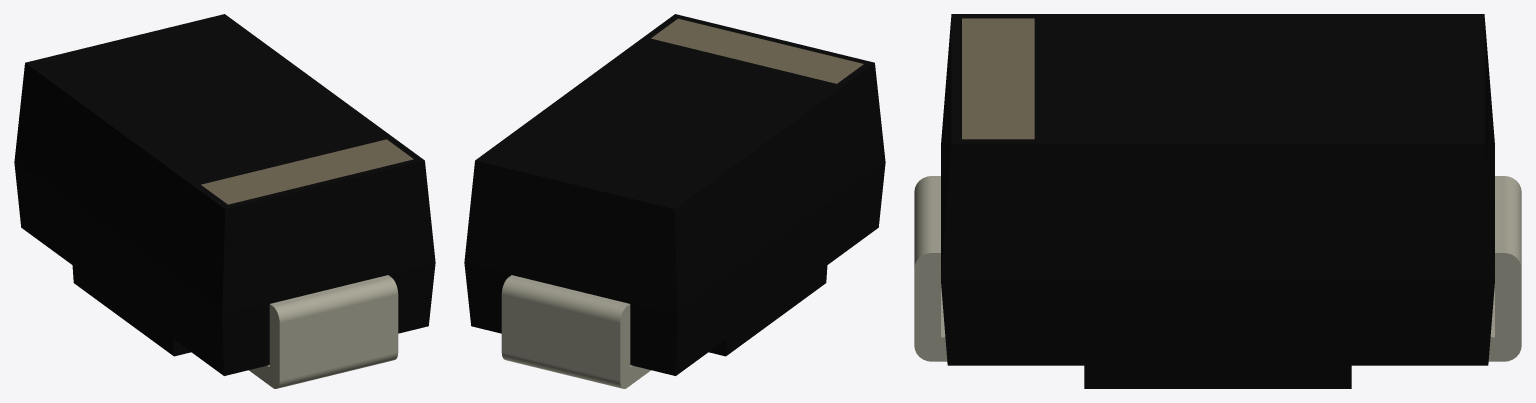
File: D1_D_SMA.obj
3 views of the same model, side by side, from view 1: azimuth 30°, elevation 25°; view 2: azimuth 150°, elevation 25°; view 3: azimuth 270°, elevation 25° (orthographic). The views are drawn at different scales.
Visible parts, largest first — view 1: D1; view 2: D1; view 3: D1.
Part boxes in pixels (left/top/right/bottom): D1: left=14, top=14, right=435, bottom=388; D1: left=464, top=14, right=885, bottom=388; D1: left=914, top=14, right=1521, bottom=388.
Bounding box in the file's own units: 0.027 × 0.0222 × 0.05.
